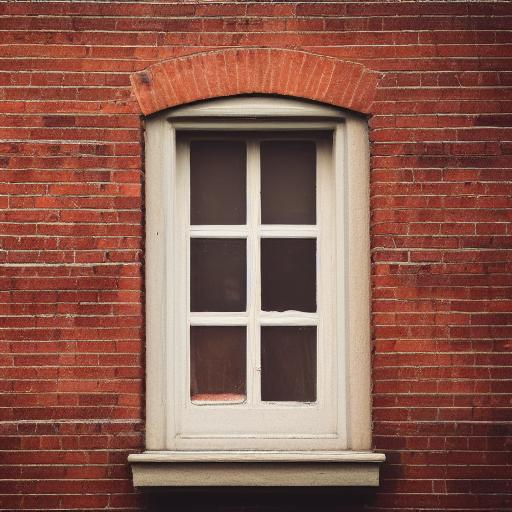Window: (126, 48, 387, 493)
